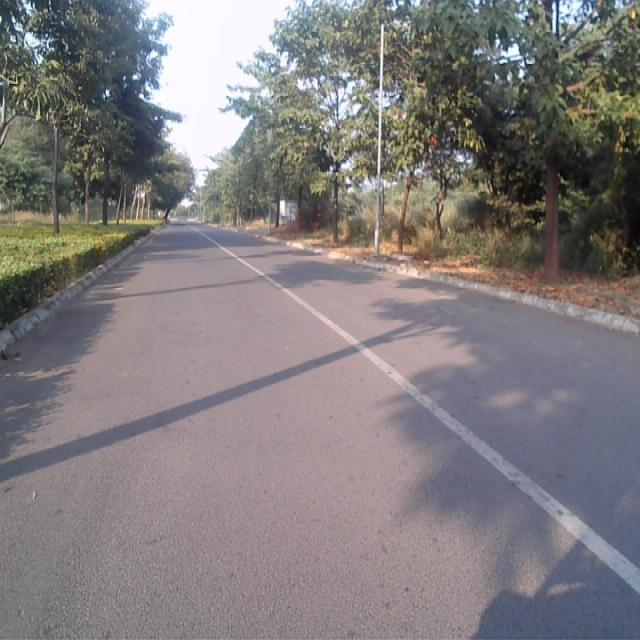lane: (0, 225, 640, 640)
